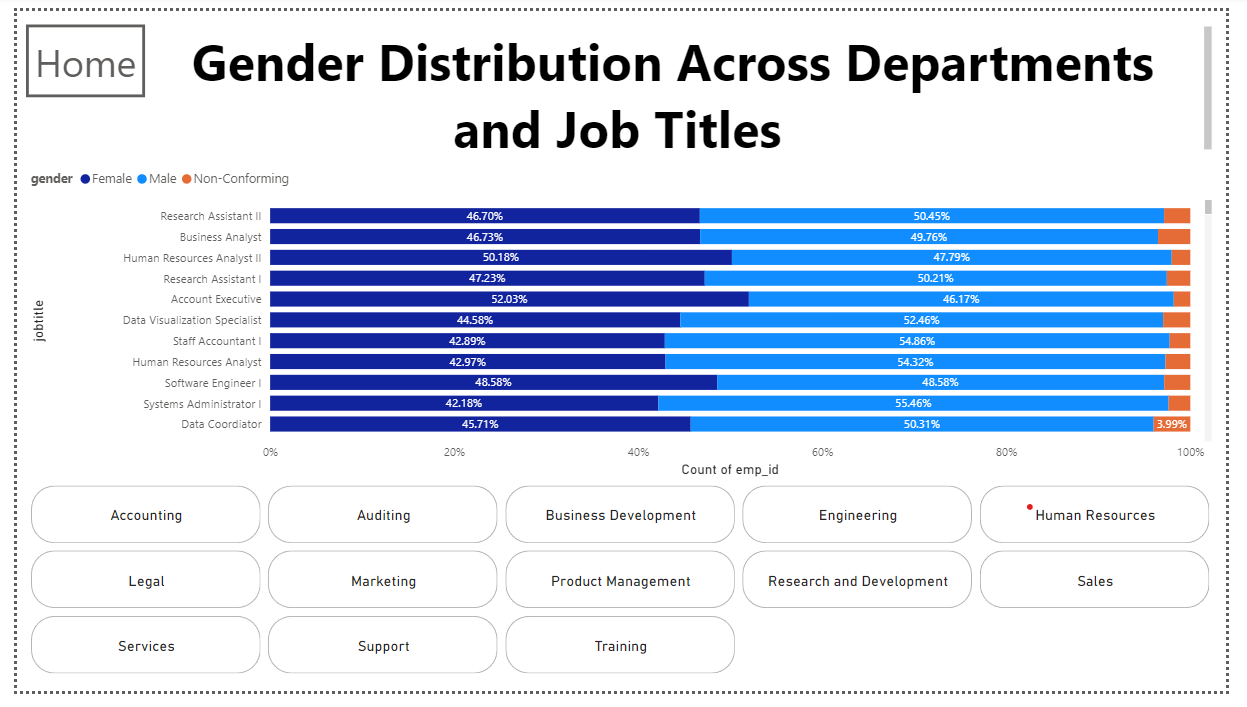

This screenshot's page, from the dashboard's own definition file:
{"tool":"powerbi","page":{"name":"Gender Distribution Across Departments and Job Titles","canvas":[1280,720],"ordinal":6},"visuals":[{"type":"advancedSlicerVisual","fields":{"Values":["hr.department"]},"box":[9.7,497.1,1259.8,210.5],"z":0},{"type":"textbox","box":[9.7,11.3,1259.8,145.7],"z":1000},{"type":"hundredPercentStackedBarChart","fields":{"Category":["hr.jobtitle"],"Y":["CountNonNull(hr.emp_id)"],"Series":["hr.gender"]},"box":[9.7,157.1,1259.8,340],"z":1001},{"type":"actionButton","box":[9,14,126,77],"z":1002}]}

Visuals, with their boxes in screenshot pixels (x1, y1, x2, y2), scaled from the page's 1280x720 canvas onto the 1247x707 screenshot:
advancedSlicerVisual - hr.department: {"left": 9, "top": 488, "right": 1237, "bottom": 695}
textbox: {"left": 9, "top": 11, "right": 1237, "bottom": 154}
hundredPercentStackedBarChart - hr.jobtitle x CountNonNull(hr.emp_id): {"left": 9, "top": 154, "right": 1237, "bottom": 488}
actionButton: {"left": 9, "top": 14, "right": 132, "bottom": 89}
